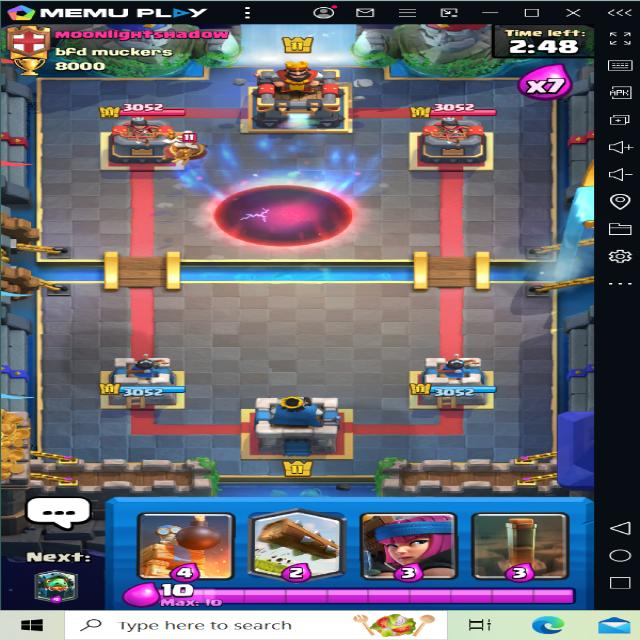lightning: (174, 132, 390, 203)
monk: (151, 127, 224, 170)
void: (216, 182, 354, 245)
